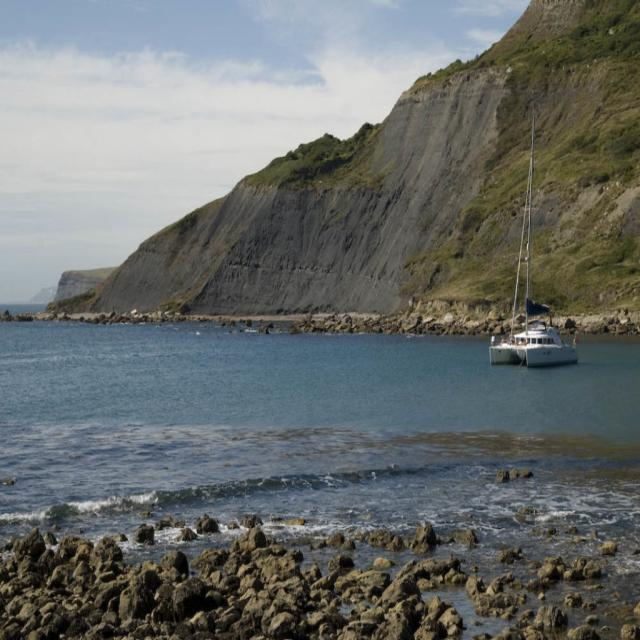Boat: (497, 136, 579, 377)
